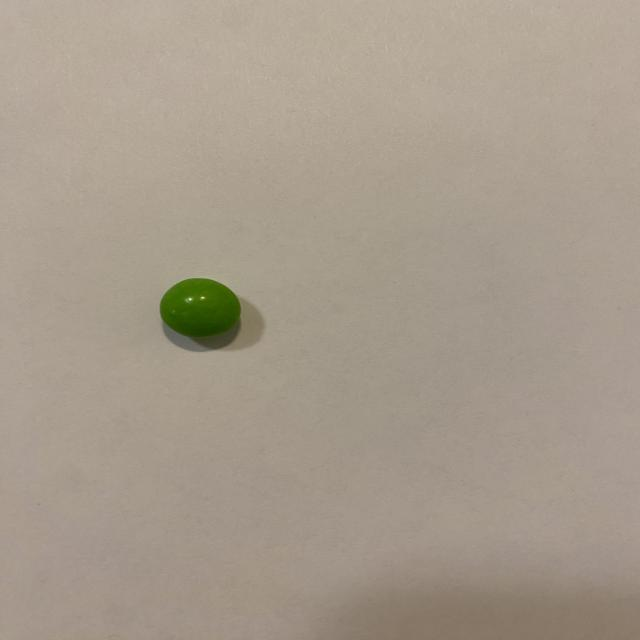smartie: (159, 278, 240, 338)
